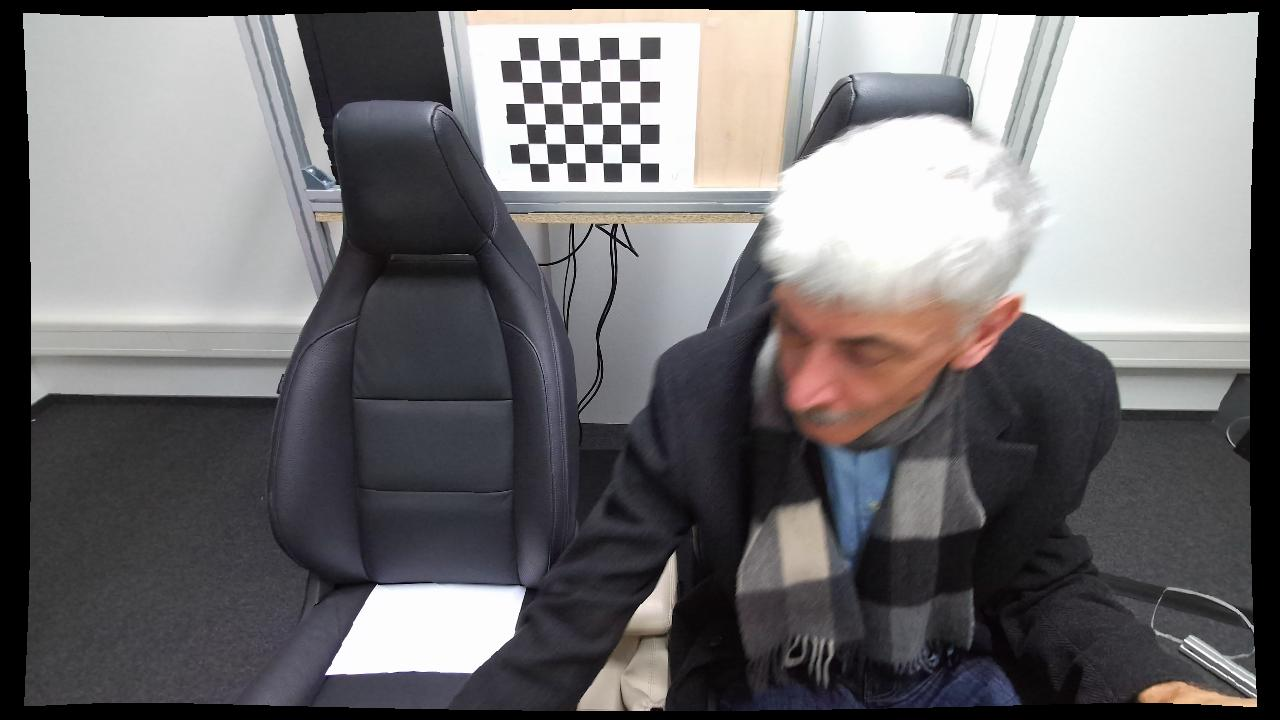Distracted: (446, 116, 1129, 709)
